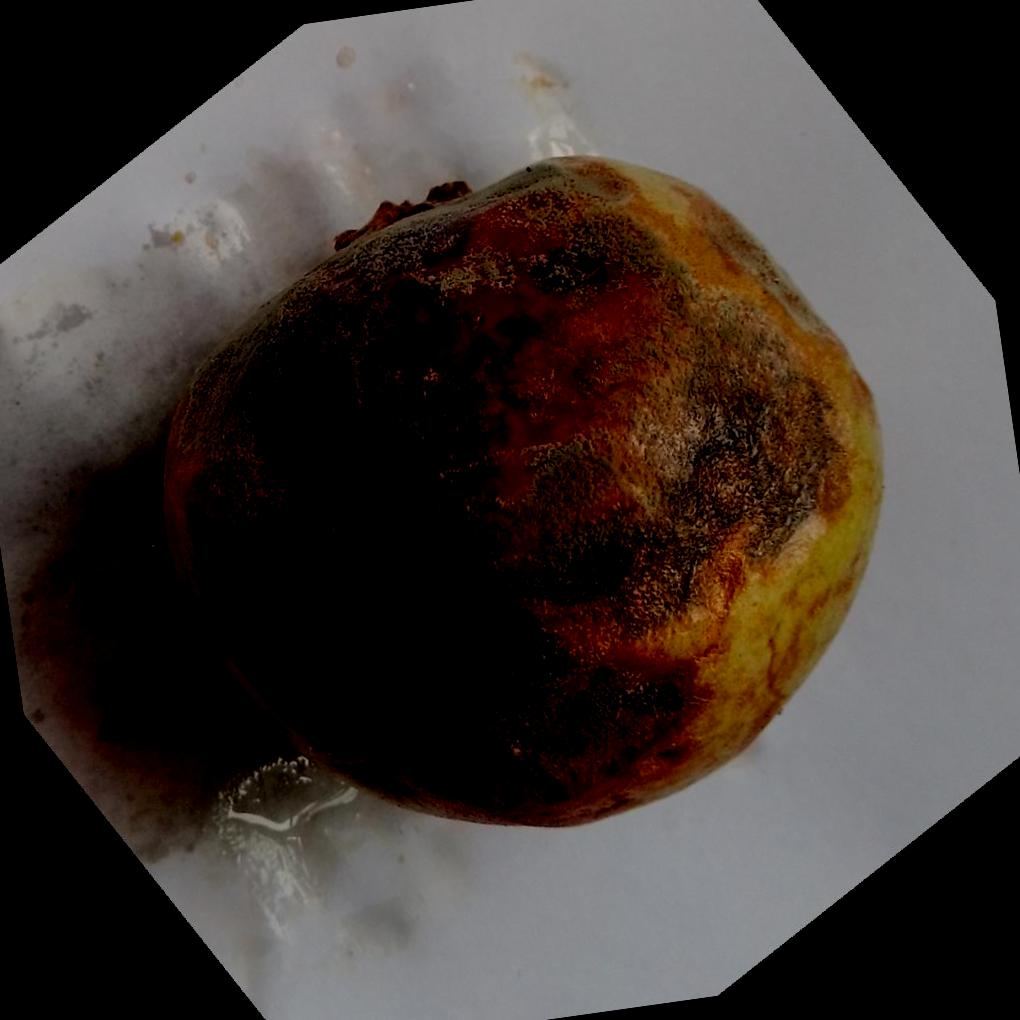FreshOrange: (159, 157, 887, 834)
